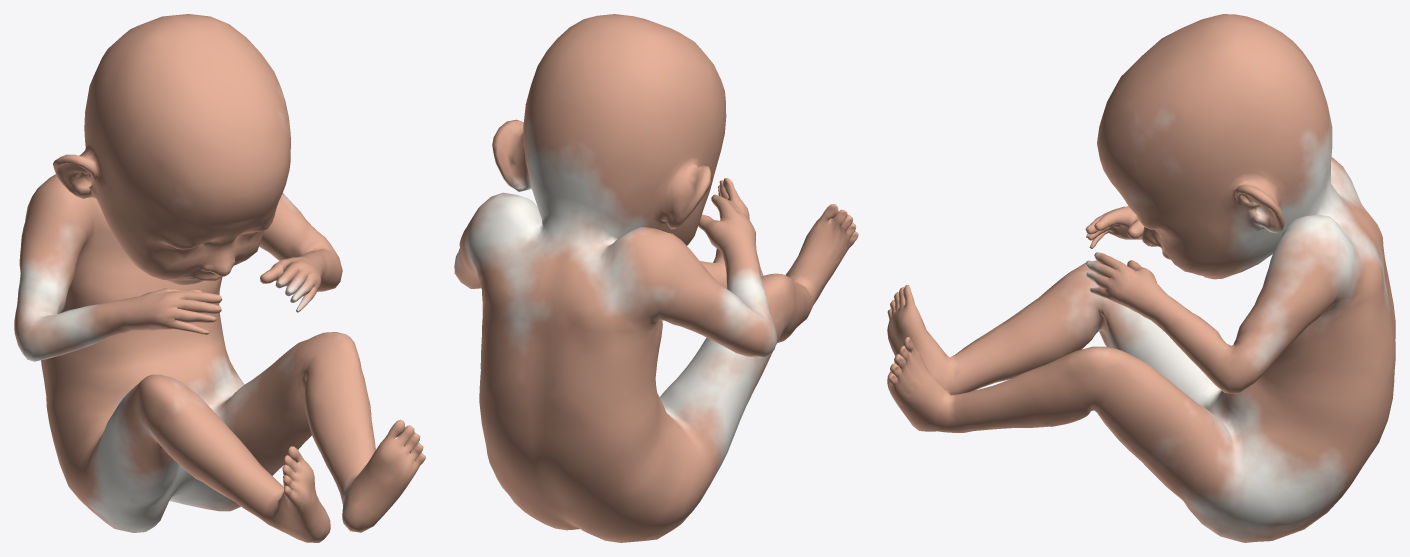
The model's file is pb-w34.edcfec7a.glb.
3 views of the same model, side by side, from view 1: azimuth 30°, elevation 25°; view 2: azimuth 150°, elevation 25°; view 3: azimuth 270°, elevation 25° (orthographic).
Visible parts, largest first — view 1: Baby; view 2: Baby; view 3: Baby.
Part boxes in pixels (bbox=[...]): Baby: bbox=[14, 14, 425, 542]; Baby: bbox=[454, 14, 858, 542]; Baby: bbox=[887, 14, 1395, 542].
Size of the model in its own units: 0.2178 by 0.3283 by 0.3049.
1 material, 1 textured.
